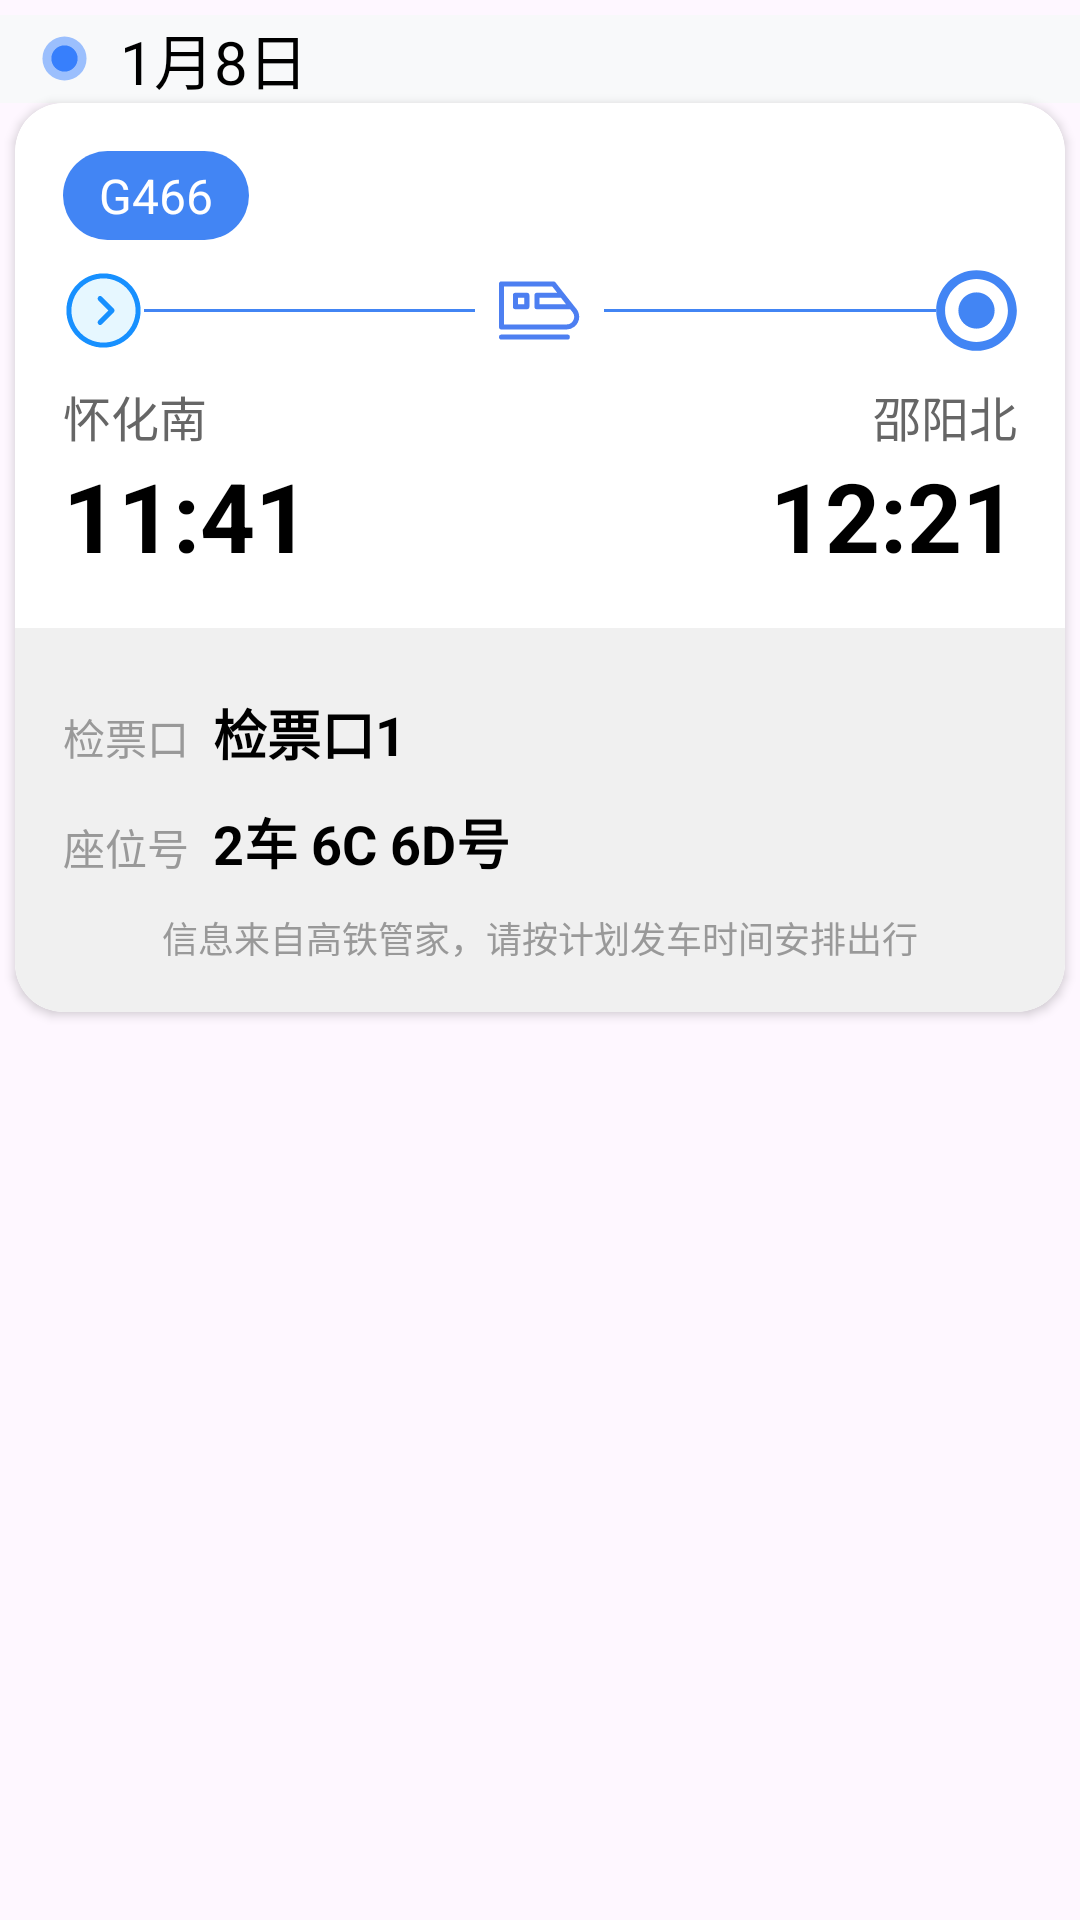

Screen size 1080 × 1920. Icon name, then its box in pixels as (x1,y1,x2,y2):
circes: (42,36,87,81)
